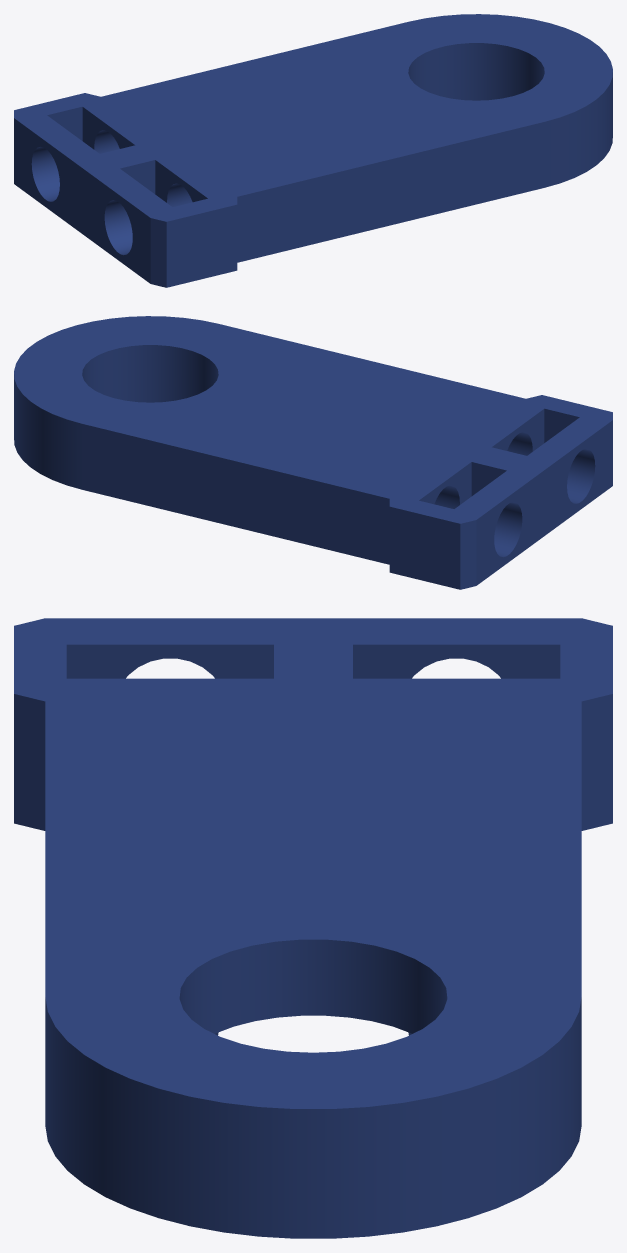
The model's file is MechaFerris-HornBracket.gltf.
3 views of the same model, one above another, from view 1: azimuth 30°, elevation 25°; view 2: azimuth 150°, elevation 25°; view 3: azimuth 270°, elevation 25° (orthographic). The views are drawn at different scales.
Visible parts, largest first — view 1: Body002; view 2: Body002; view 3: Body002.
Boxes of the visible parts, left/top/right/bottom form: Body002: left=14, top=14, right=612, bottom=287; Body002: left=14, top=316, right=612, bottom=589; Body002: left=14, top=618, right=612, bottom=1238.
Bounding box in the file's own units: 0.0325 × 0.004 × 0.0168.
